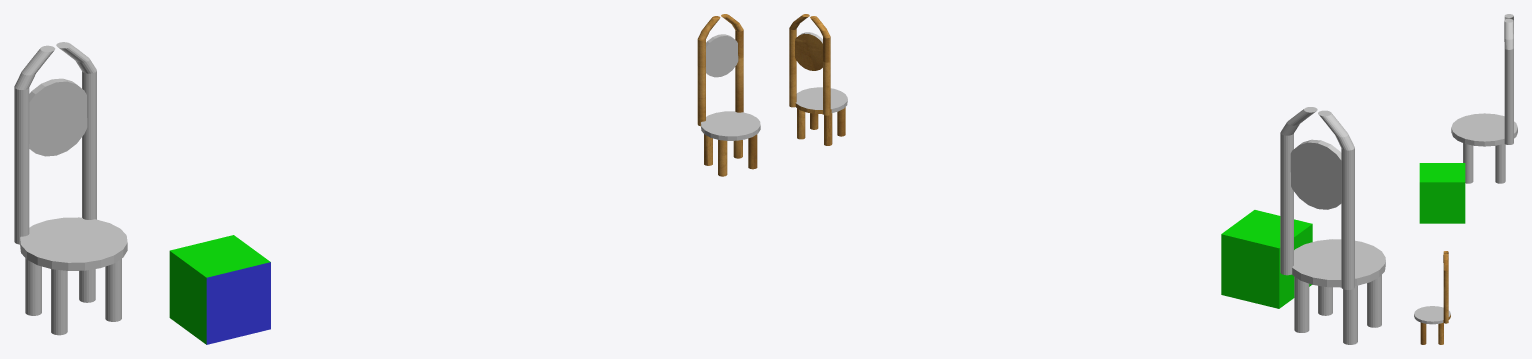
File: ornate chair.fbx
The picture shows the model from 3 angles, left to right: view 1: azimuth 30°, elevation 25°; view 2: azimuth 150°, elevation 25°; view 3: azimuth 270°, elevation 25°; orthographic projection. The views are drawn at different scales.
Visible parts, largest first — view 1: polySurface1.001, Cube, polySurface1.003; view 2: polySurface1.001, Cube, polySurface1.003; view 3: polySurface1.001, Cube, polySurface1.003.
Boxes of the visible parts, left/top/right/bottom form: polySurface1.001: left=14, top=42, right=127, bottom=335; Cube: left=169, top=235, right=270, bottom=344; polySurface1.003: left=697, top=14, right=760, bottom=176; polySurface1.001: left=1280, top=107, right=1385, bottom=344; Cube: left=1221, top=210, right=1312, bottom=308; polySurface1.003: left=789, top=14, right=847, bottom=145; polySurface1.001: left=1451, top=14, right=1517, bottom=183; Cube: left=1419, top=163, right=1465, bottom=223; polySurface1.003: left=1414, top=251, right=1450, bottom=344.
Size of the model in its own units: 2140 by 785 by 455.
